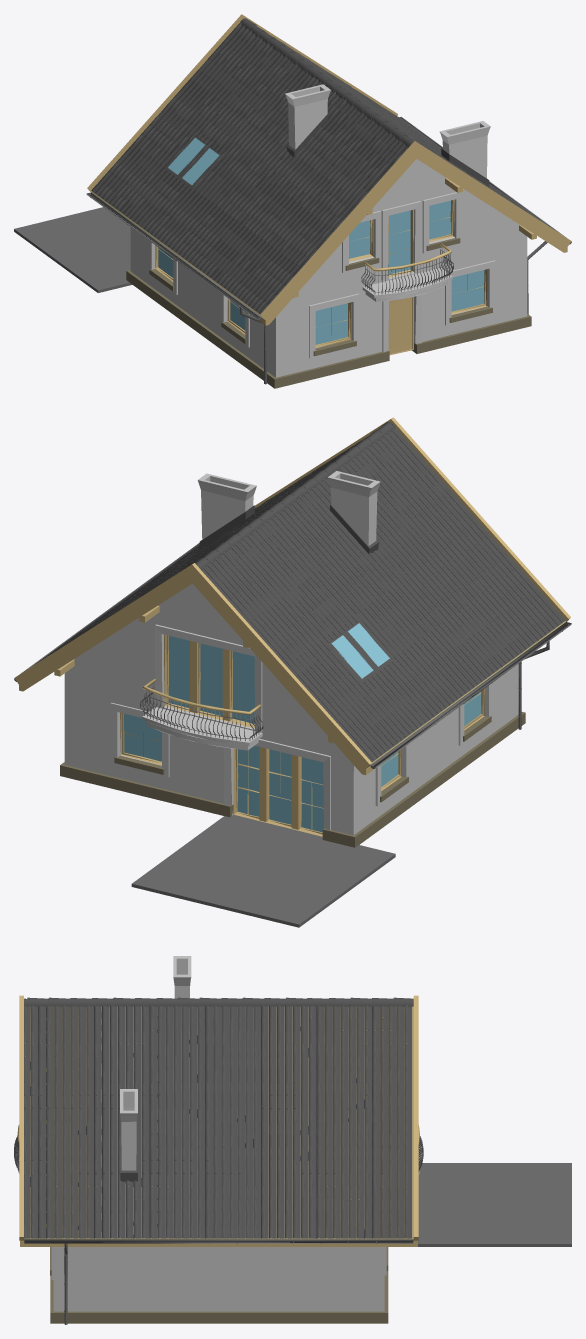
The model's file is cyprys.glb.
3 renders of one model, top to bottom at view 1: azimuth 30°, elevation 25°; view 2: azimuth 150°, elevation 25°; view 3: azimuth 270°, elevation 25°, orthographic. The views are drawn at different scales.
Parts seen in each view (by area): view 1: Cyprys_House; view 2: Cyprys_House; view 3: Cyprys_House.
Boxes of the visible parts, x1,y1,x2,y2 form: Cyprys_House: [14, 14, 571, 388]; Cyprys_House: [14, 417, 571, 927]; Cyprys_House: [14, 956, 571, 1324].
Size of the model in its own units: 12 by 8.48 by 16.01.
